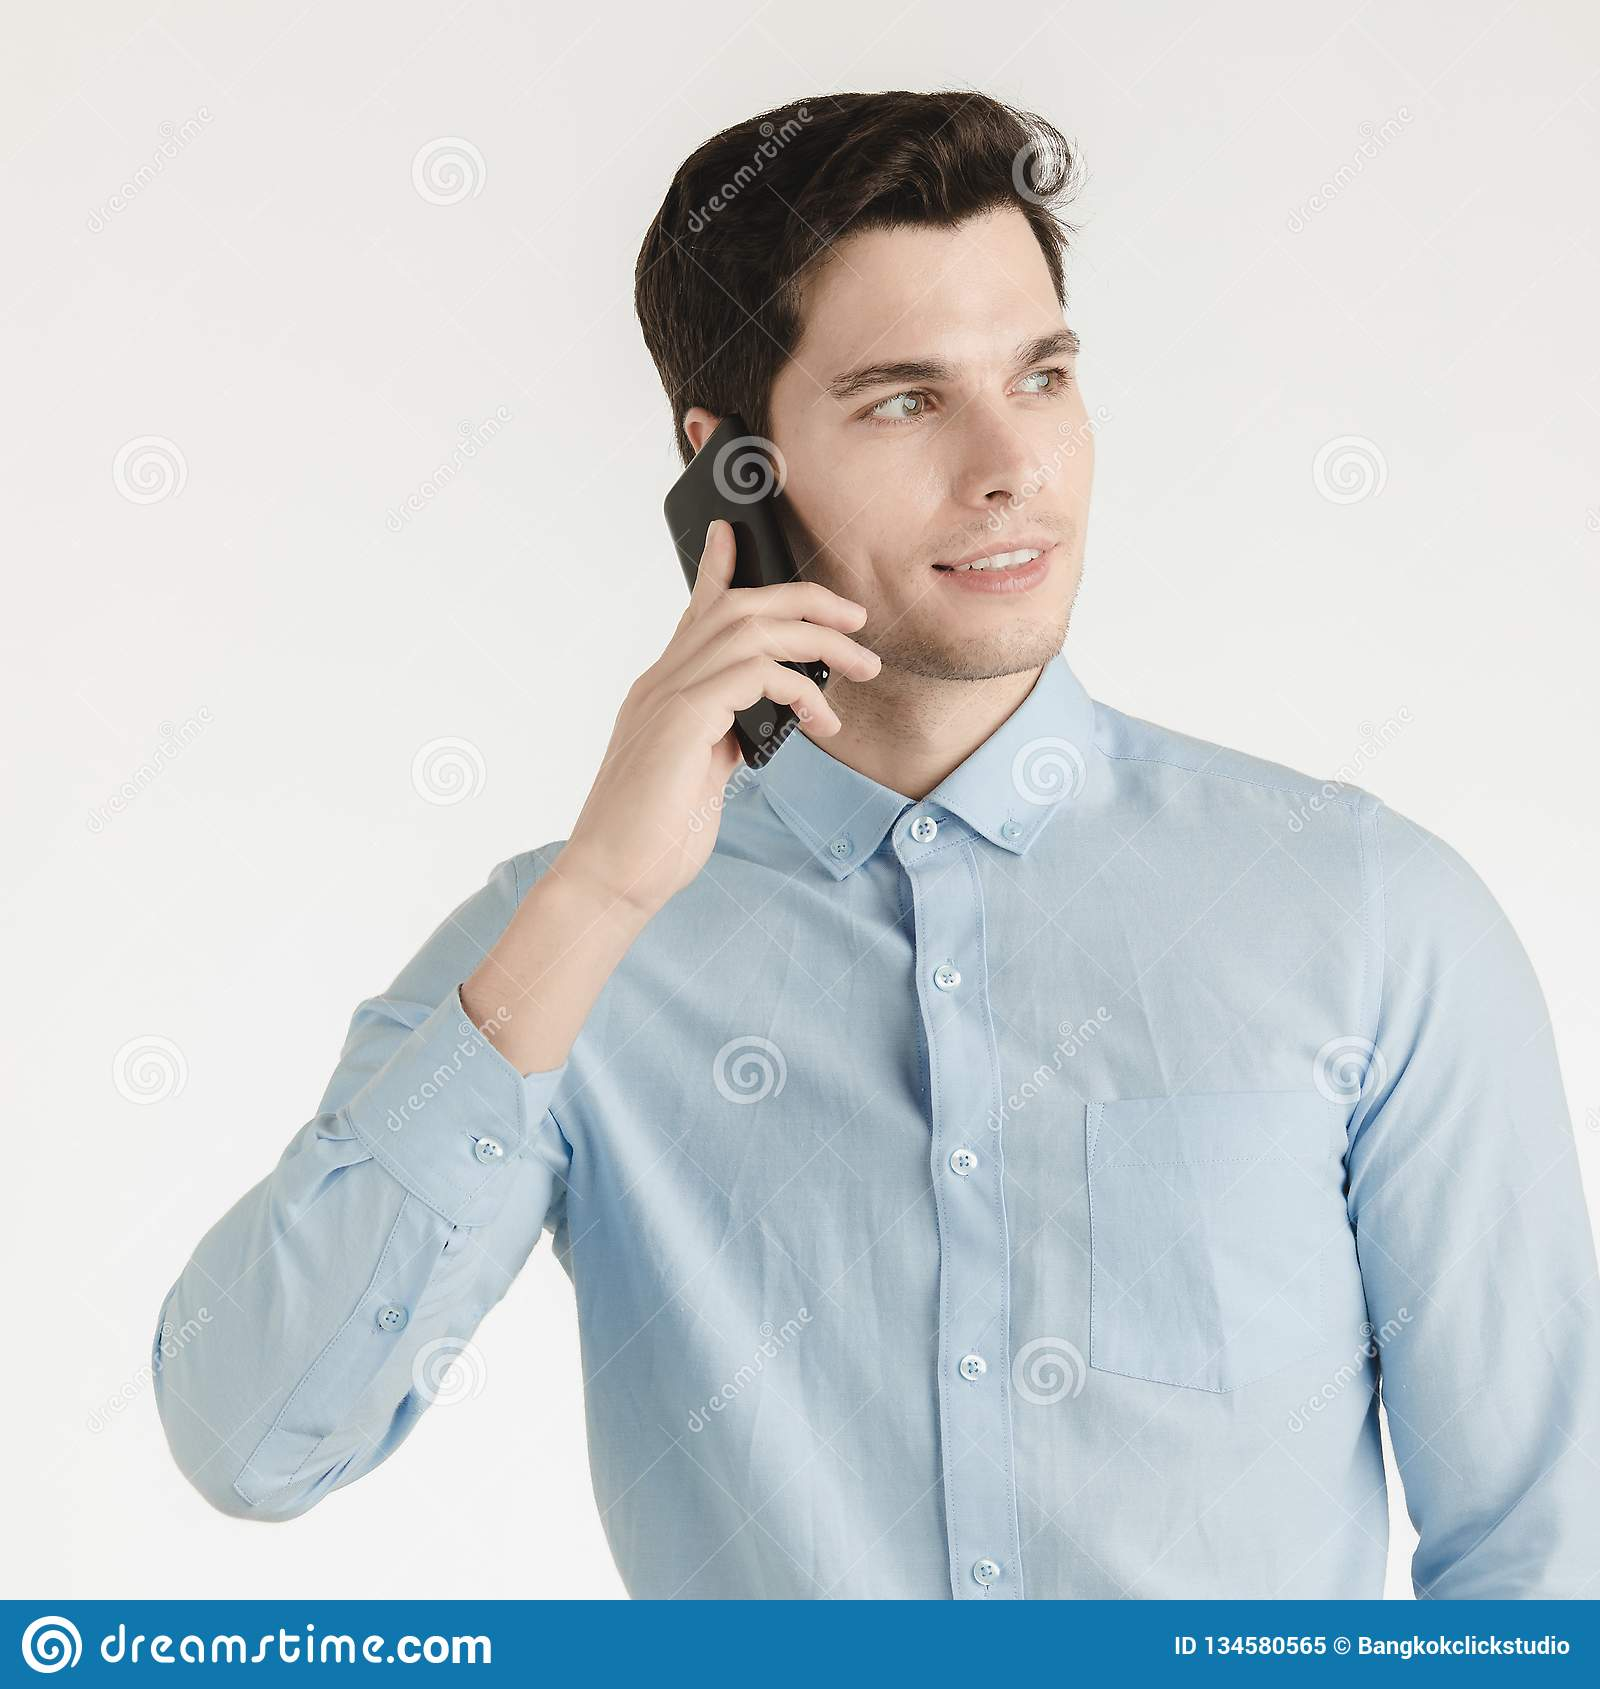phone: (669, 420, 847, 778)
talk: (562, 308, 1099, 896)
